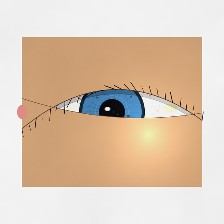pinguecula_lesion: (156, 97, 184, 120)
